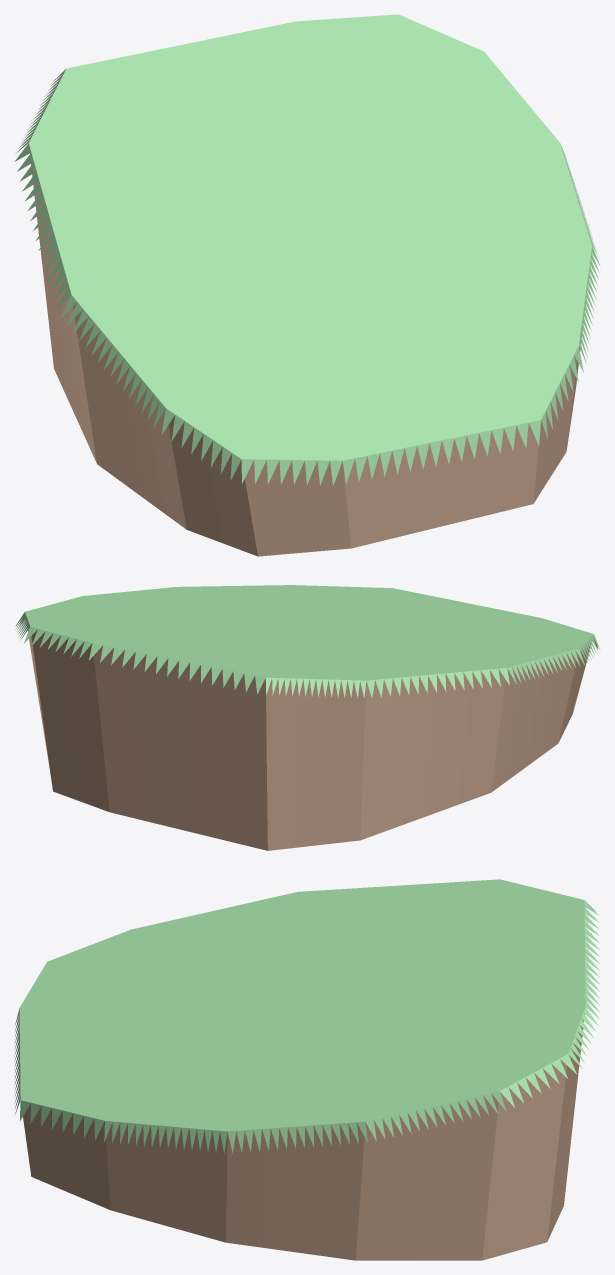
Rendered from simple_island_2.glb.
3 views of the same model, one above another, from view 1: azimuth 30°, elevation 25°; view 2: azimuth 150°, elevation 25°; view 3: azimuth 270°, elevation 25° (orthographic). The views are drawn at different scales.
Visible parts, largest first — view 1: ND — Sketch.001; view 2: ND — Sketch.001; view 3: ND — Sketch.001.
Part boxes in pixels (x1,y1,x2,y2): ND — Sketch.001: [14, 14, 600, 556]; ND — Sketch.001: [15, 585, 600, 850]; ND — Sketch.001: [14, 879, 600, 1260].
Size of what is drawn, in the model's own units: 48.78 by 20.5 by 51.46.
